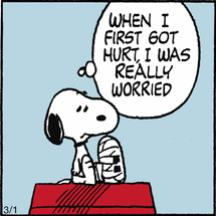snoopy: (42, 87, 128, 187)
